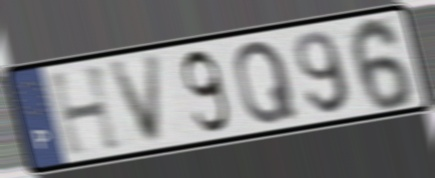6: (347, 13, 417, 113)
9: (292, 28, 353, 116), (178, 47, 232, 136)
H: (45, 60, 126, 160)
Q: (232, 37, 301, 128)
V: (106, 50, 165, 148)
